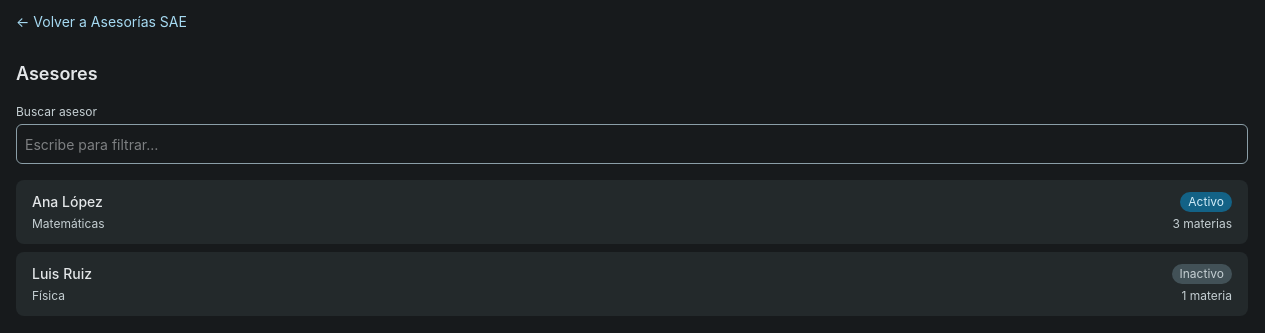
Test: AdminAsesores › sin coincidencias muestra el estado vacío de la búsqueda
Step 1. Type "zzz" into the field labelled "Buscar asesor" → (632, 144), box [16,124,1248,164]
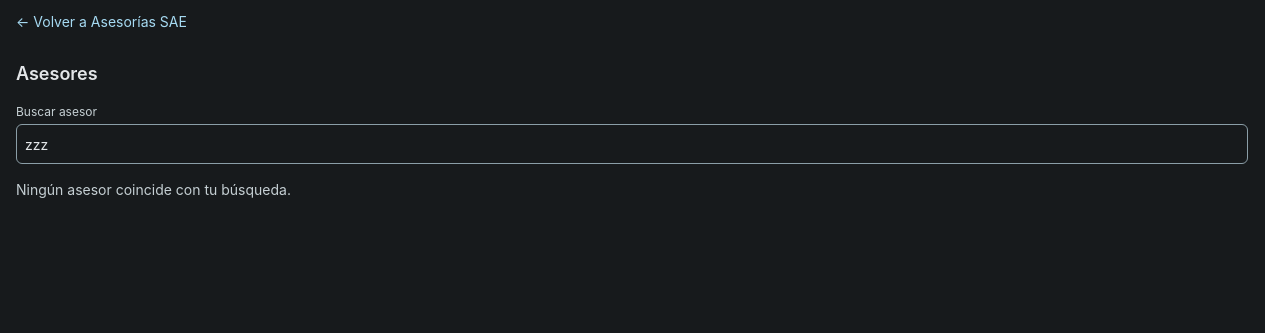
expect the text "Ningún asesor coincide con tu búsqueda." is shown: met, box [16,181,291,198]
